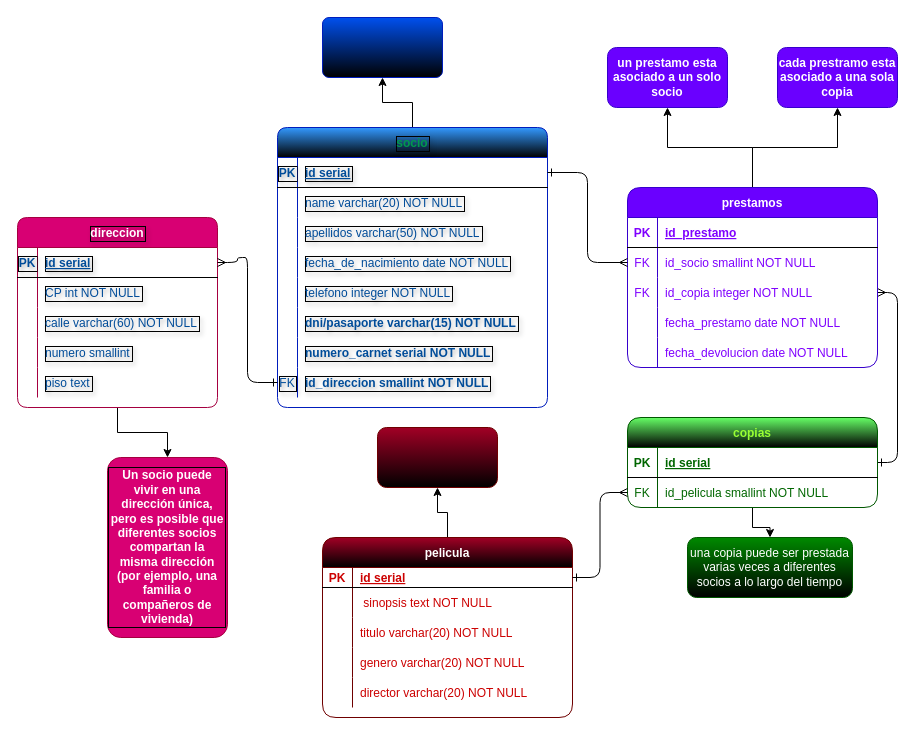
This 924x735 diagram has some shape labels left out. The centre of each missing label's shape, as x and y in pixels:
"un socio puede tener varios prestamos" goes at [382,47].
"una pelicula puede tener varias copias" goes at [437,457].
